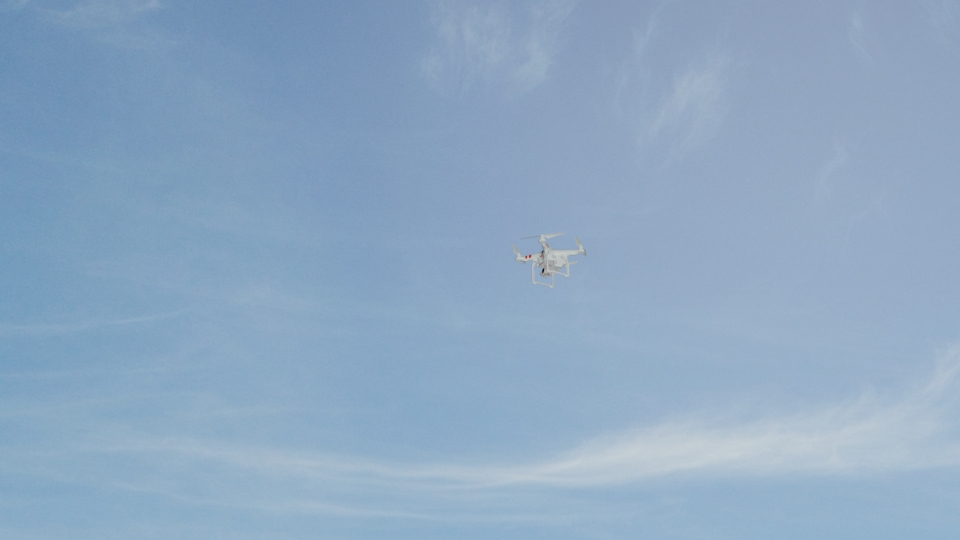drone: (513, 228, 586, 289)
